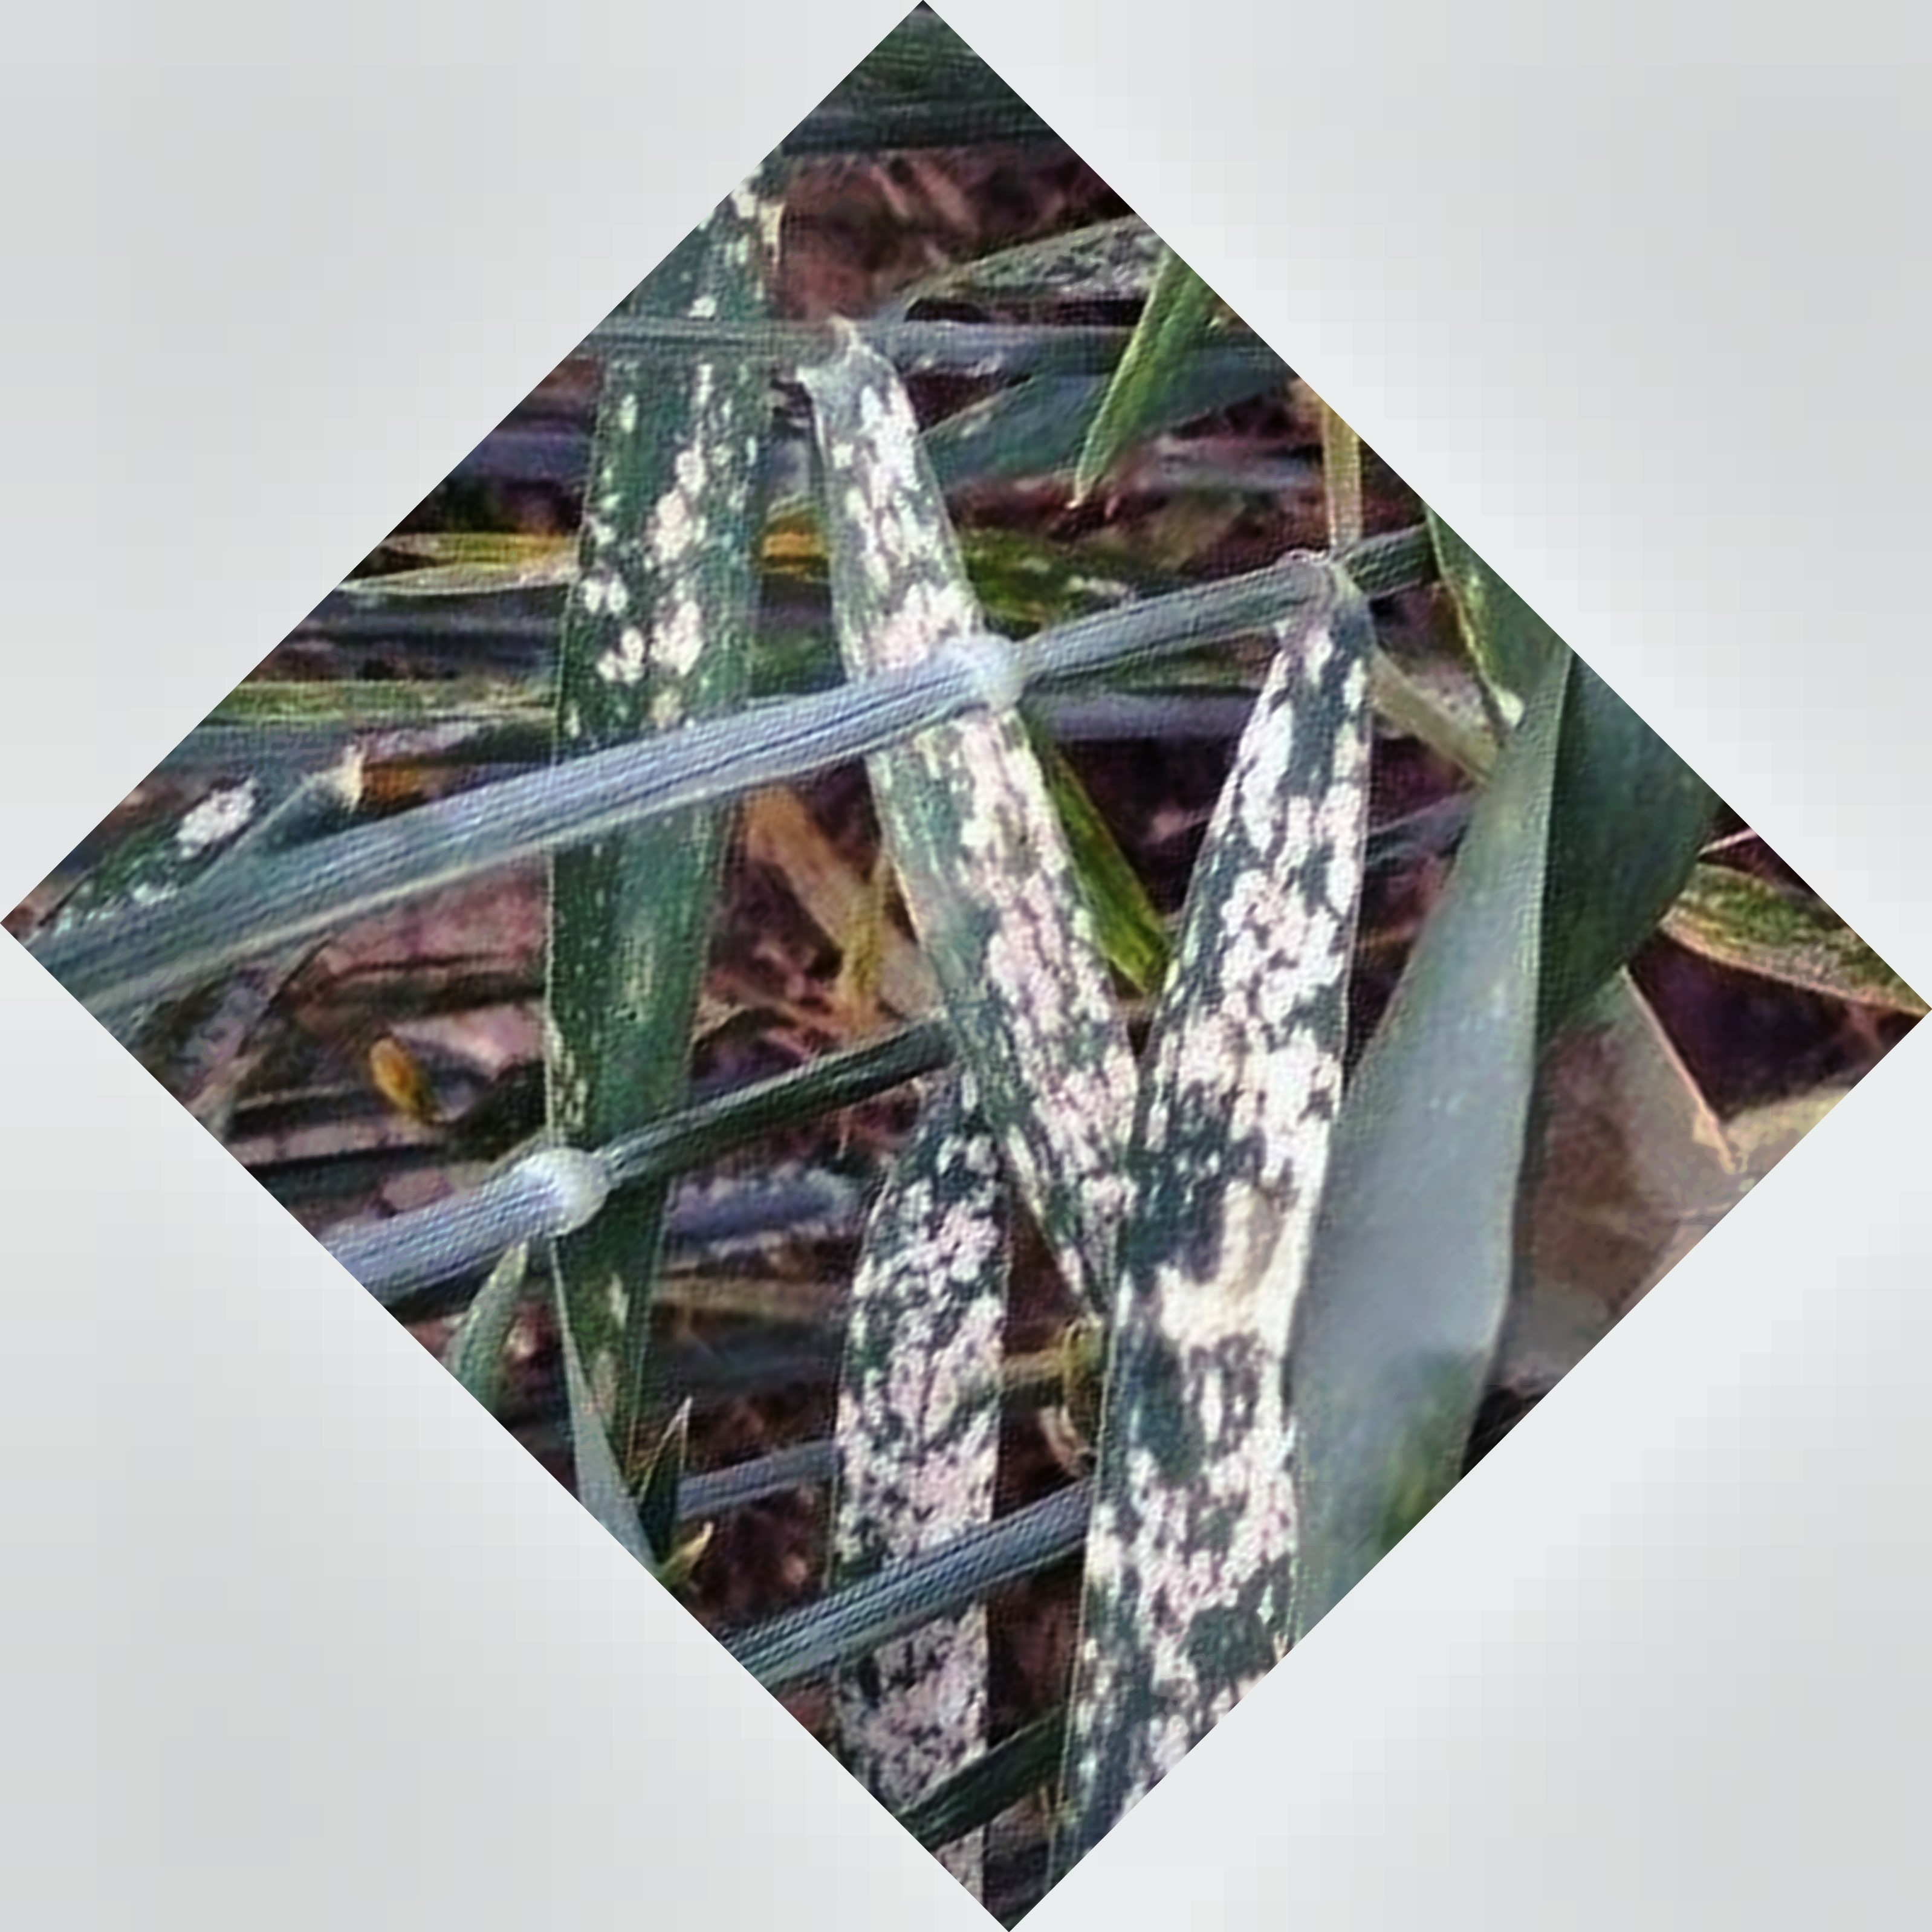Powdery Mildew: (840, 444, 1325, 1675), (501, 402, 786, 709)
